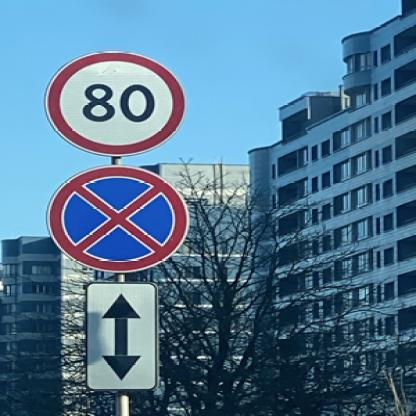Speed Limit 80: (48, 54, 184, 156)
